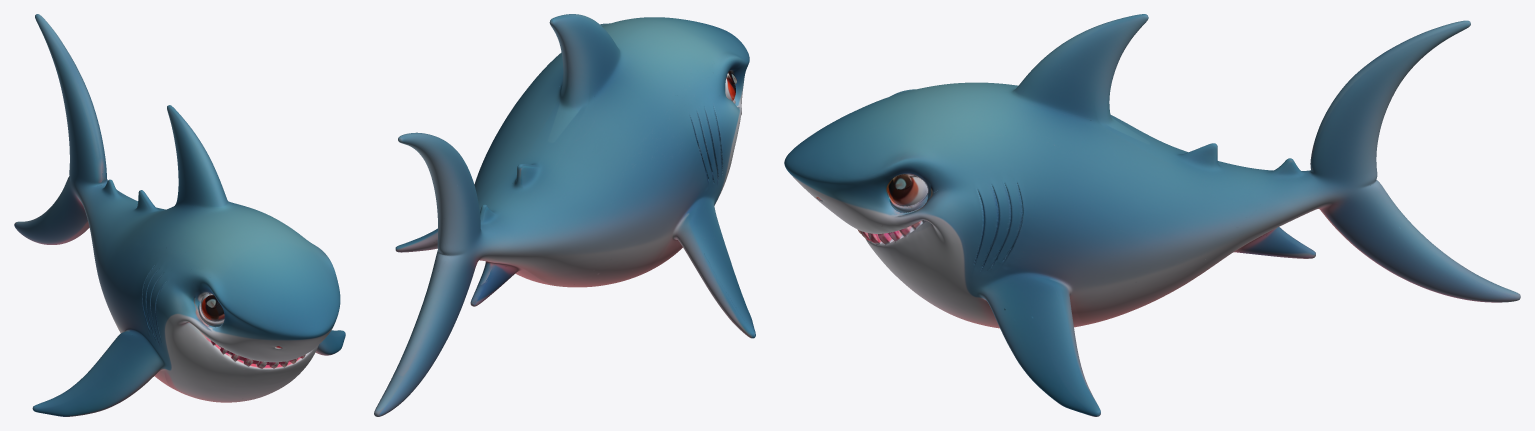
Rendered from shark.glb.
The picture shows the model from 3 angles, left to right: view 1: azimuth 30°, elevation 25°; view 2: azimuth 150°, elevation 25°; view 3: azimuth 270°, elevation 25°; orthographic projection. The views are drawn at different scales.
Visible parts, largest first — view 1: texture_pbr_v128; view 2: texture_pbr_v128; view 3: texture_pbr_v128.
Boxes of the visible parts, <box> form: texture_pbr_v128: <box>14,14,345,416</box>; texture_pbr_v128: <box>374,14,755,416</box>; texture_pbr_v128: <box>784,14,1520,416</box>.
Bounding box in the file's own units: 0.673 × 0.5249 × 1.12.
Materials: 1 (1 with a texture image).
